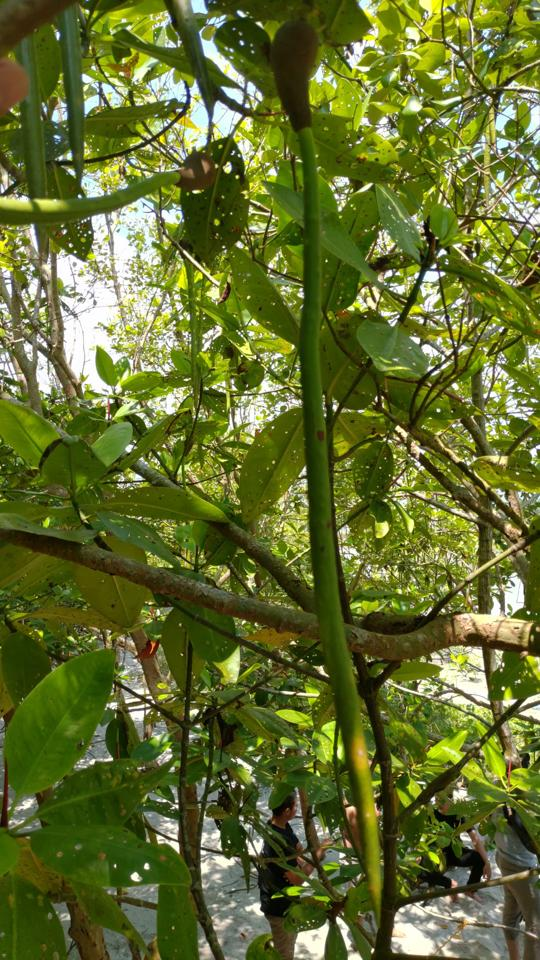mentah: (243, 10, 401, 944)
